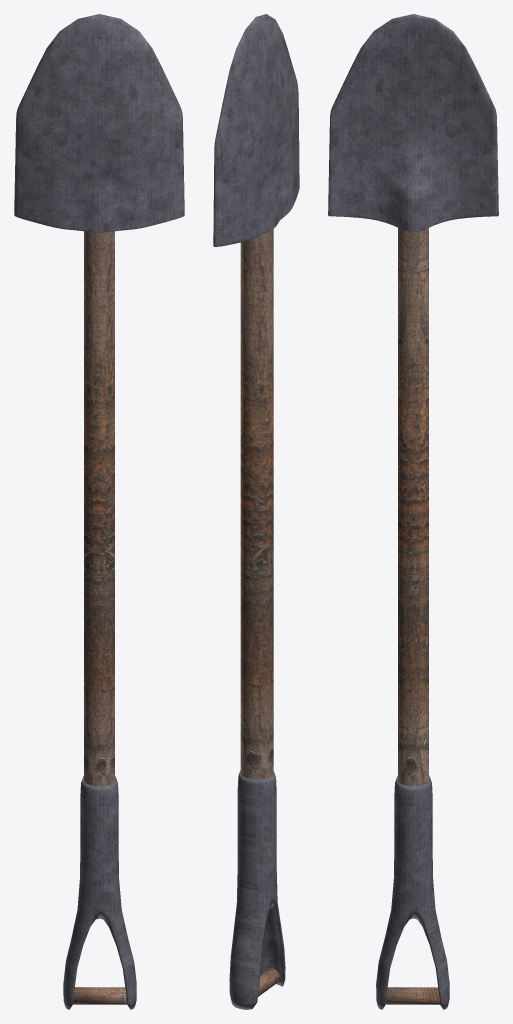
File: shovel.fbx
3 views of the same model, side by side, from view 1: azimuth 90°, elevation 25°; view 2: azimuth 150°, elevation 25°; view 3: azimuth 270°, elevation 25° (orthographic).
Visible parts, largest first — view 1: shovel head, shovel head.001; view 2: shovel head, shovel head.001; view 3: shovel head, shovel head.001.
Boxes of the visible parts, <box> form: shovel head: <box>14,14,184,1009</box>; shovel head.001: <box>72,231,127,1004</box>; shovel head: <box>213,14,299,1009</box>; shovel head.001: <box>240,229,279,996</box>; shovel head: <box>328,14,498,1009</box>; shovel head.001: <box>385,228,440,1004</box>.
Bounding box in the file's own units: 5.83 × 162 × 25.34.
2 materials, 2 textured.
